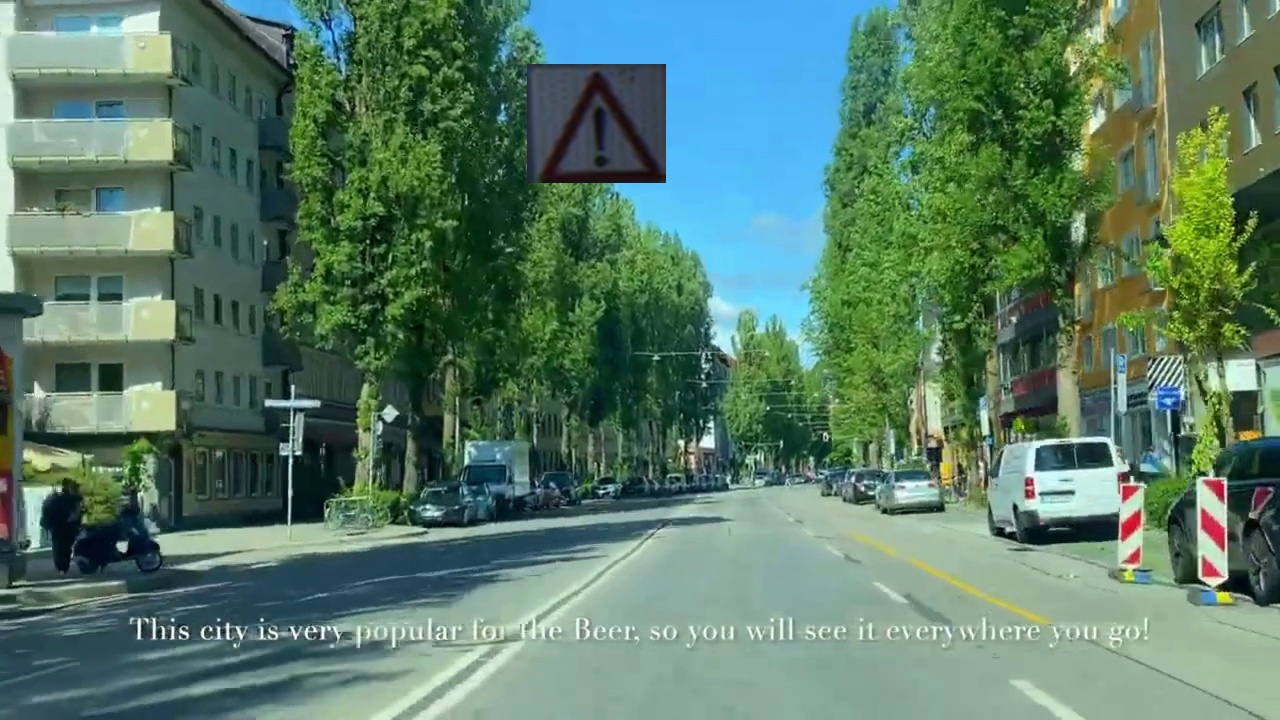Caution: (527, 64, 666, 183)
